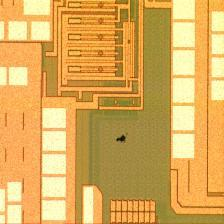PARTICLE: (115, 131, 131, 147)
